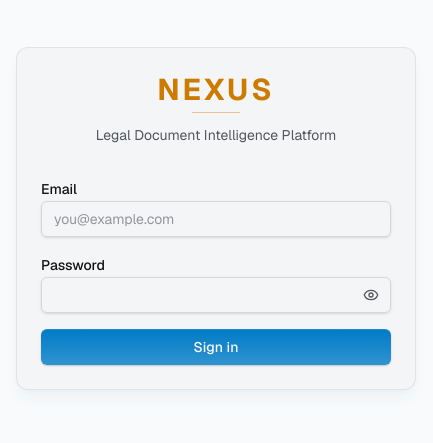
LoginPage › shows error alert on failed login
Type "test@example.com" into the field labelled "Email" at (216, 218), box left=41, top=200, right=391, bottom=236
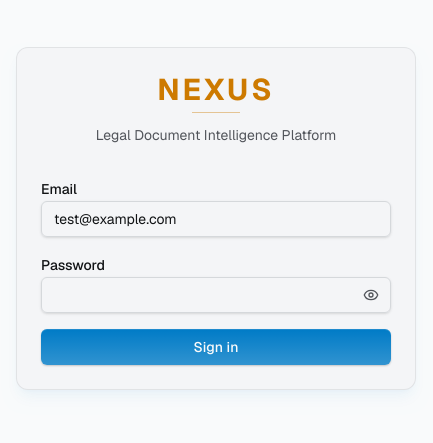
Type "wrong" into the password field labelled "Password" at (216, 294), box left=41, top=276, right=391, bottom=312
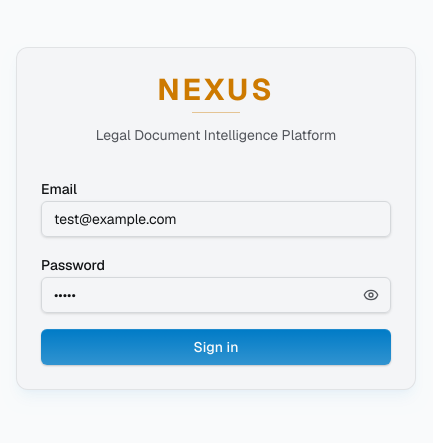
Click the button "Sign in" at (216, 346), box left=41, top=328, right=391, bottom=364
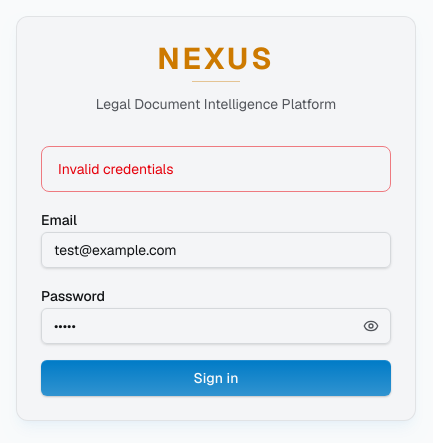
Result: the text "Invalid credentials" is shown at left=58, top=160, right=174, bottom=178
